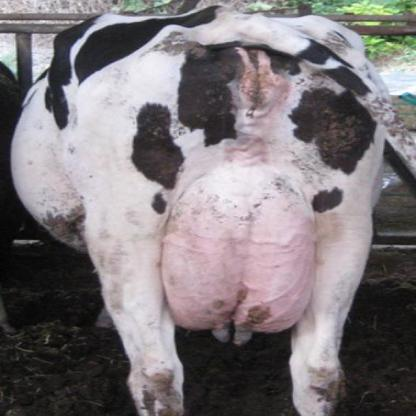cow: (13, 5, 408, 416)
